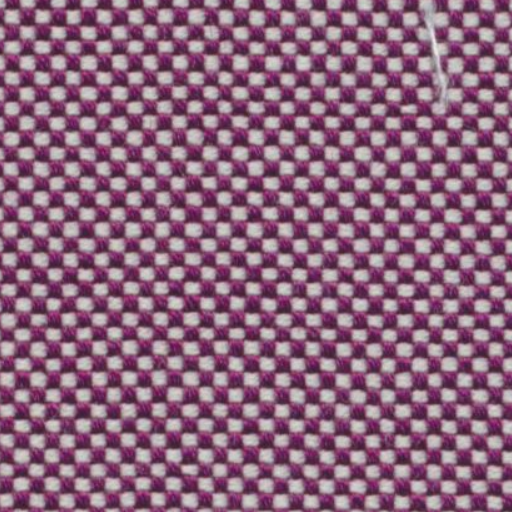DuanSha: (404, 7, 458, 112)
